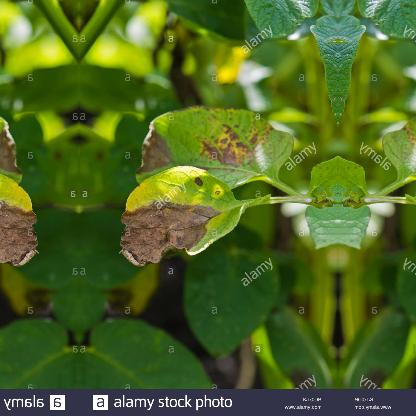Early-Blight: (94, 169, 290, 266), (116, 92, 296, 192), (0, 168, 62, 265), (0, 92, 40, 192), (377, 92, 416, 192)
